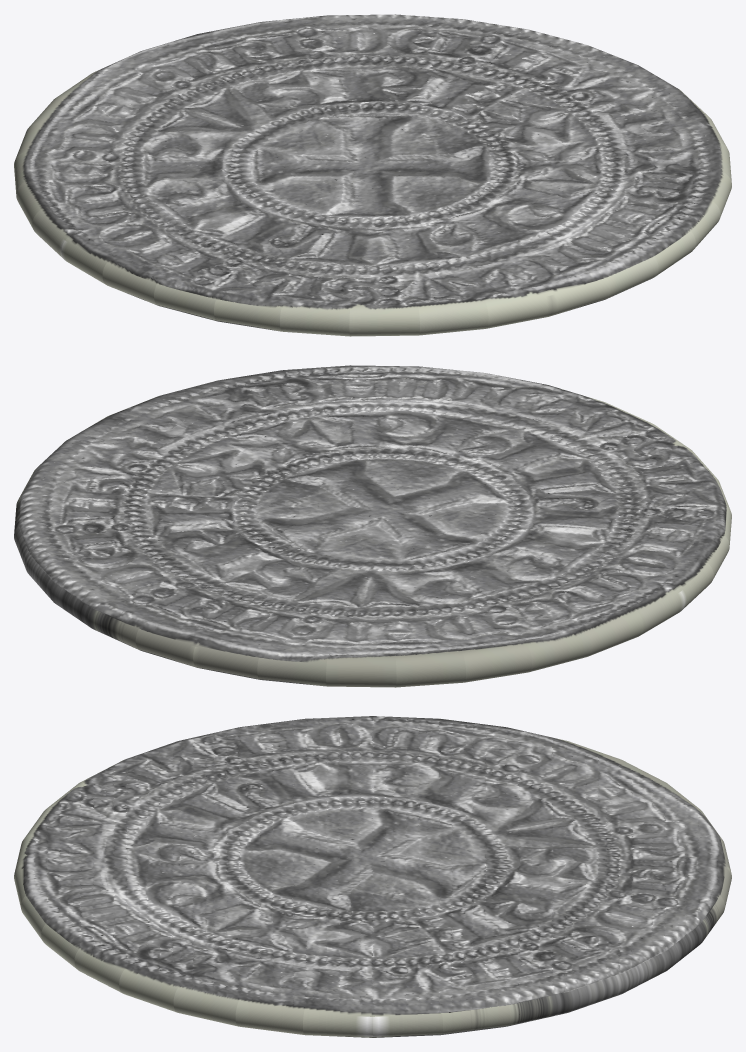
Rendered from silver_coin.fbx.
The picture shows the model from 3 angles, top to bottom: view 1: azimuth 30°, elevation 25°; view 2: azimuth 150°, elevation 25°; view 3: azimuth 270°, elevation 25°; orthographic projection.
Parts seen in each view (by area): view 1: Circle; view 2: Circle; view 3: Circle.
Part boxes in pixels (bbox=[...]): Circle: bbox=[14, 14, 731, 336]; Circle: bbox=[14, 365, 731, 687]; Circle: bbox=[14, 716, 731, 1037].
Bounding box in the file's own units: 200 × 8.96 × 200.
